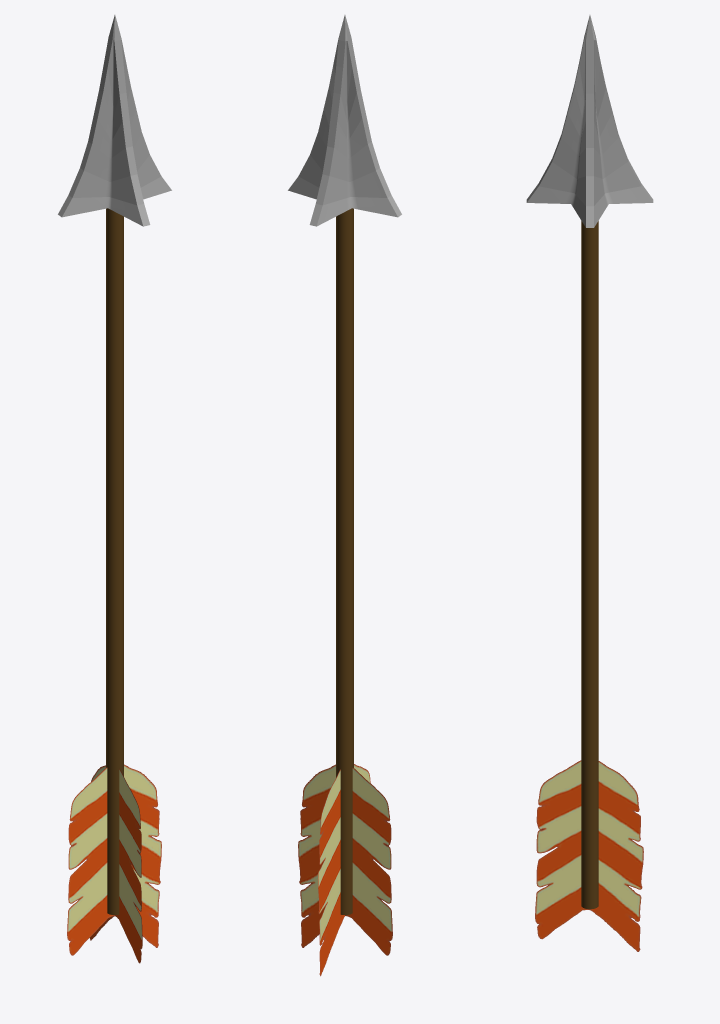
Rendered from Sharp_Arrow.fbx.
3 views of the same model, side by side, from view 1: azimuth 30°, elevation 25°; view 2: azimuth 150°, elevation 25°; view 3: azimuth 270°, elevation 25° (orthographic).
Parts seen in each view (by area): view 1: stick, Sharp, pPlane1, pPlane2; view 2: stick, Sharp, pPlane1, pPlane2; view 3: pPlane2, stick, Sharp.
Part boxes in pixels (x1,y1,x2,y2): stick: [106, 208, 123, 915]; Sharp: [58, 15, 171, 226]; pPlane1: [67, 764, 161, 955]; pPlane2: [90, 765, 142, 963]; stick: [336, 208, 353, 915]; Sharp: [288, 15, 401, 226]; pPlane1: [298, 764, 392, 955]; pPlane2: [318, 764, 370, 976]; pPlane2: [535, 760, 643, 951]; stick: [581, 221, 598, 909]; Sharp: [526, 15, 653, 227].
Bounding box in the file's own units: 25.25 × 114 × 25.25.
